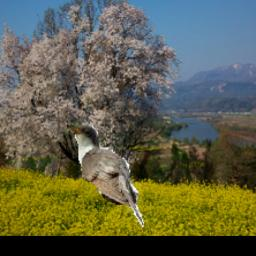Cuckoo: (66, 122, 145, 227)
